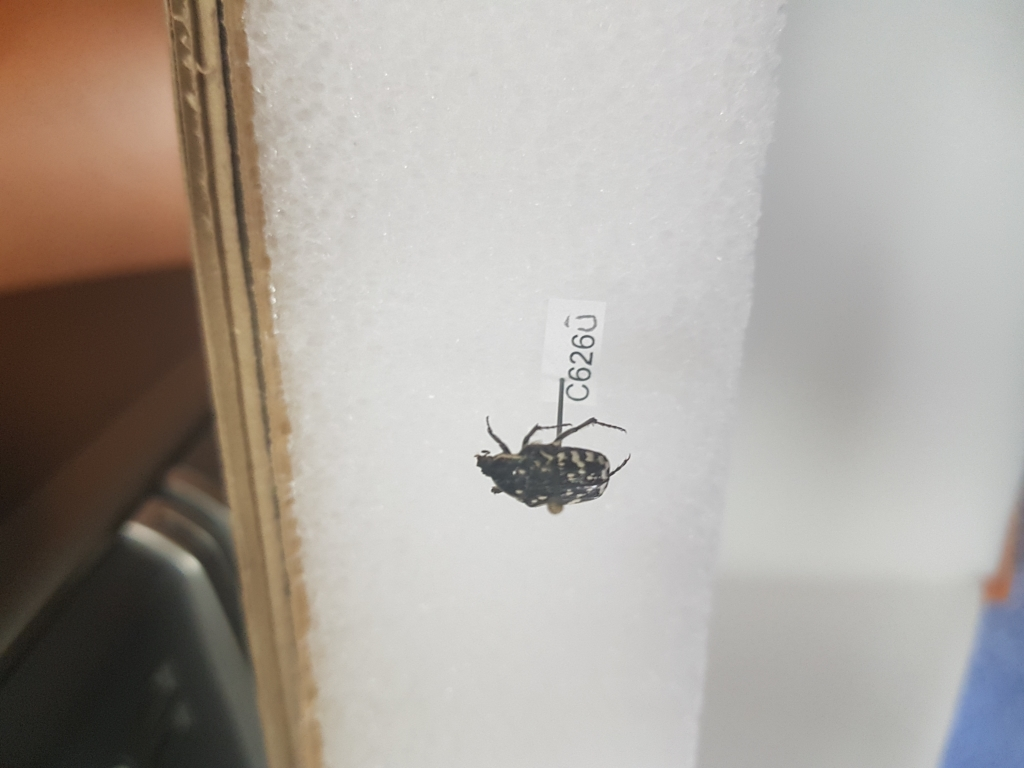Oxythyrea_funesta: (471, 412, 638, 508)
